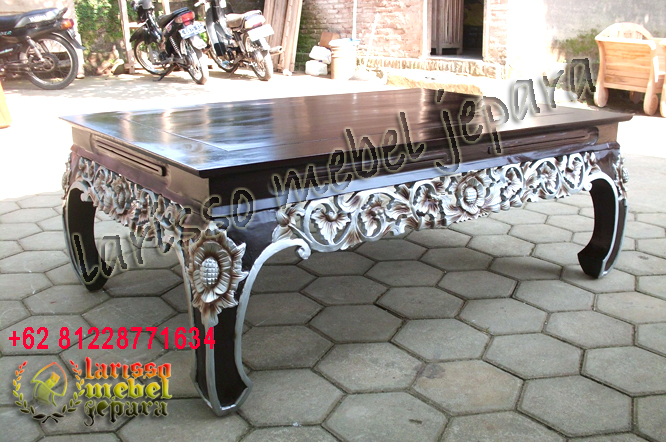Carving Table: (53, 80, 636, 391)
